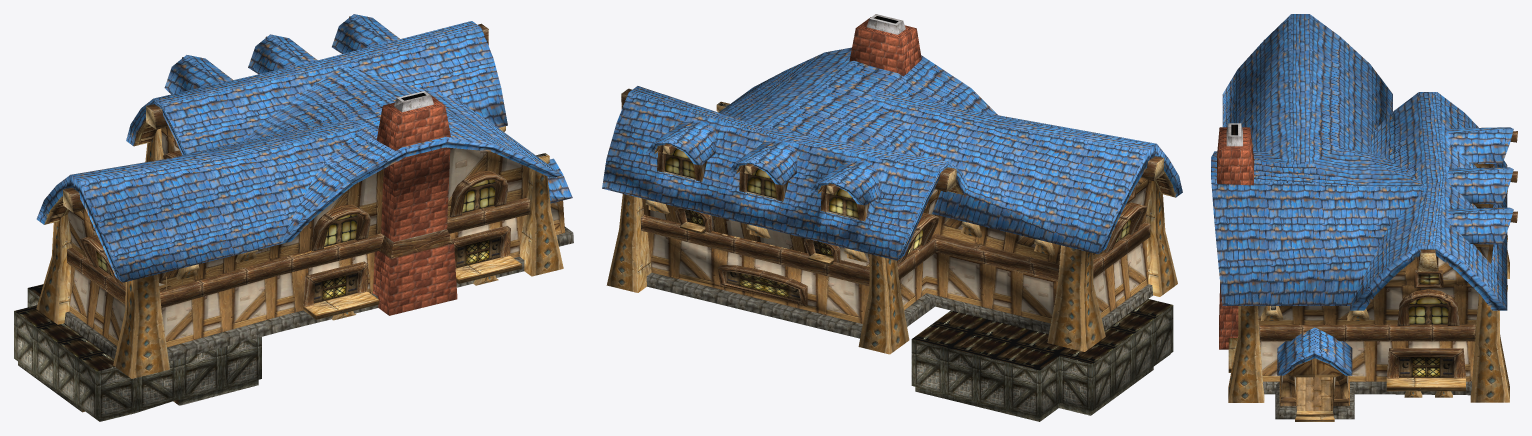
Rendered from fachada.obj.
3 renders of one model, left to right at view 1: azimuth 30°, elevation 25°; view 2: azimuth 150°, elevation 25°; view 3: azimuth 270°, elevation 25°, orthographic. The views are drawn at different scales.
Visible parts, largest first — view 1: fachada:commonroom14; view 2: fachada:commonroom14; view 3: fachada:commonroom14.
Part boxes in pixels (bbox=[...]): fachada:commonroom14: bbox=[14, 14, 573, 421]; fachada:commonroom14: bbox=[602, 14, 1182, 421]; fachada:commonroom14: bbox=[1211, 14, 1517, 421].
Size of the model in its own units: 29.83 by 14.99 by 16.08.
Materials: 23 (23 with a texture image).
